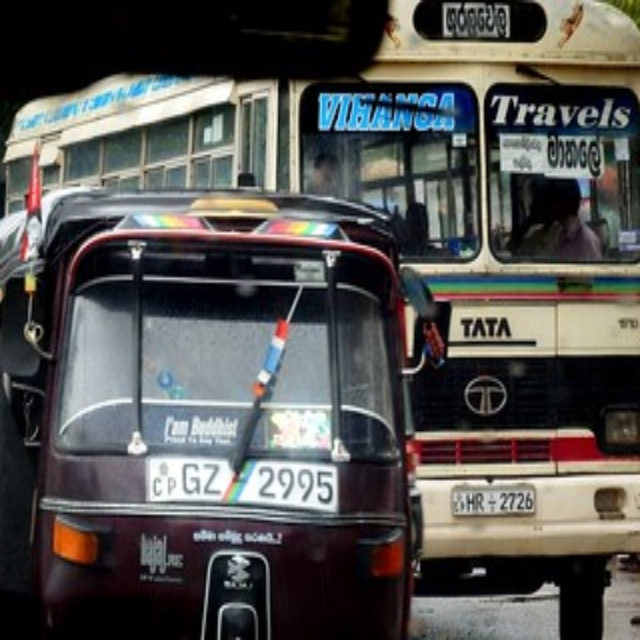Bus: (4, 3, 640, 557)
Motorcycle: (2, 189, 414, 640)
